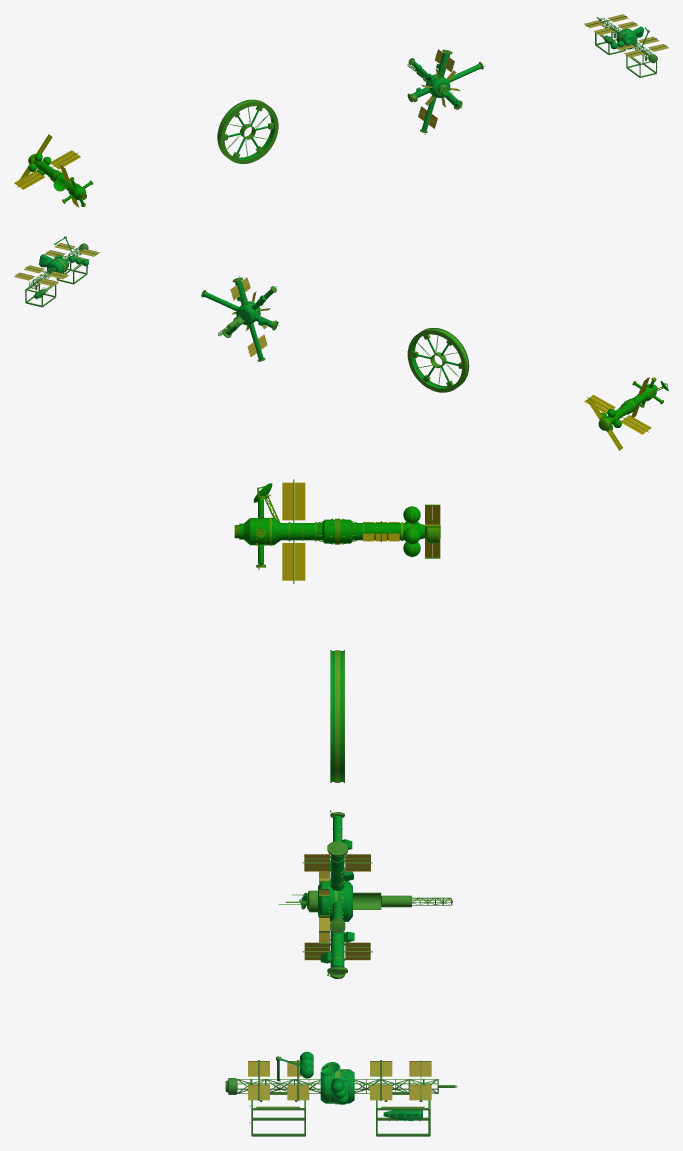
Rendered from stations.glb.
3 views of the same model, one above another, from view 1: azimuth 30°, elevation 25°; view 2: azimuth 150°, elevation 25°; view 3: azimuth 270°, elevation 25° (orthographic). The views are drawn at different scales.
Parts seen in each view (by area): view 1: stations; view 2: stations; view 3: stations.
Part boxes in pixels (x1=…): stations: x1=14, y1=14, x2=668, y2=207; stations: x1=14, y1=236, x2=668, y2=450; stations: x1=225, y1=479, x2=457, y2=1136.
Bounding box in the file's own units: 6.54 × 0.7852 × 1.06.
